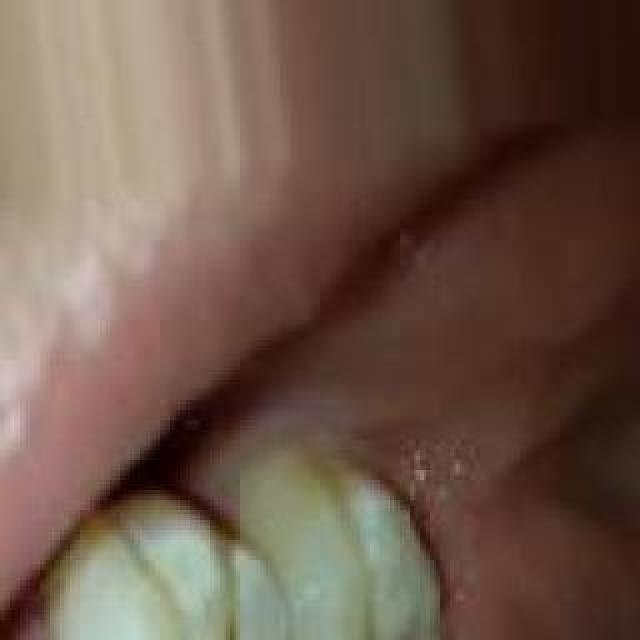cavities: (102, 622, 300, 640)
